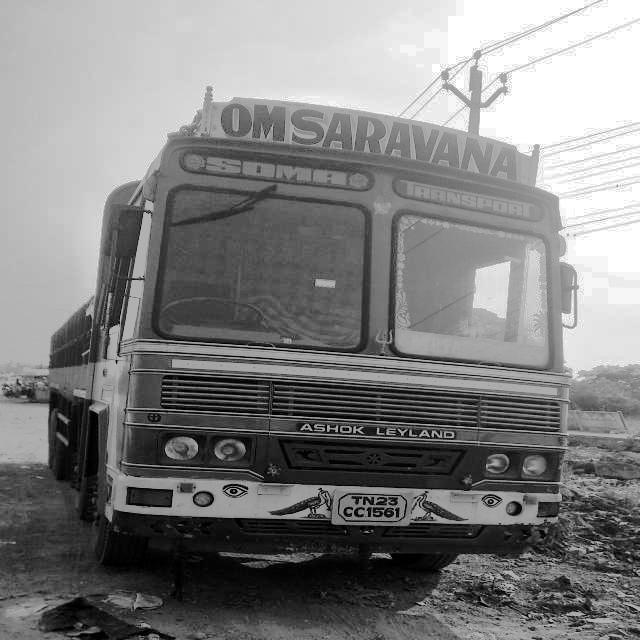HCV: (114, 91, 577, 640)
